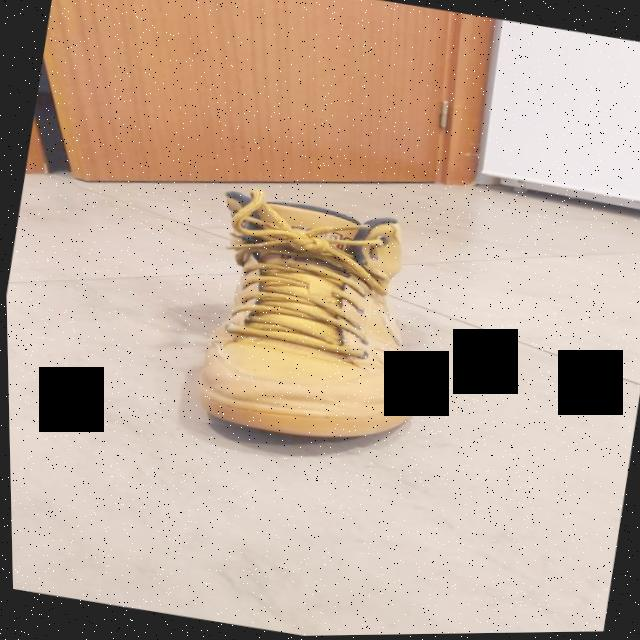shoe: (176, 182, 445, 458)
